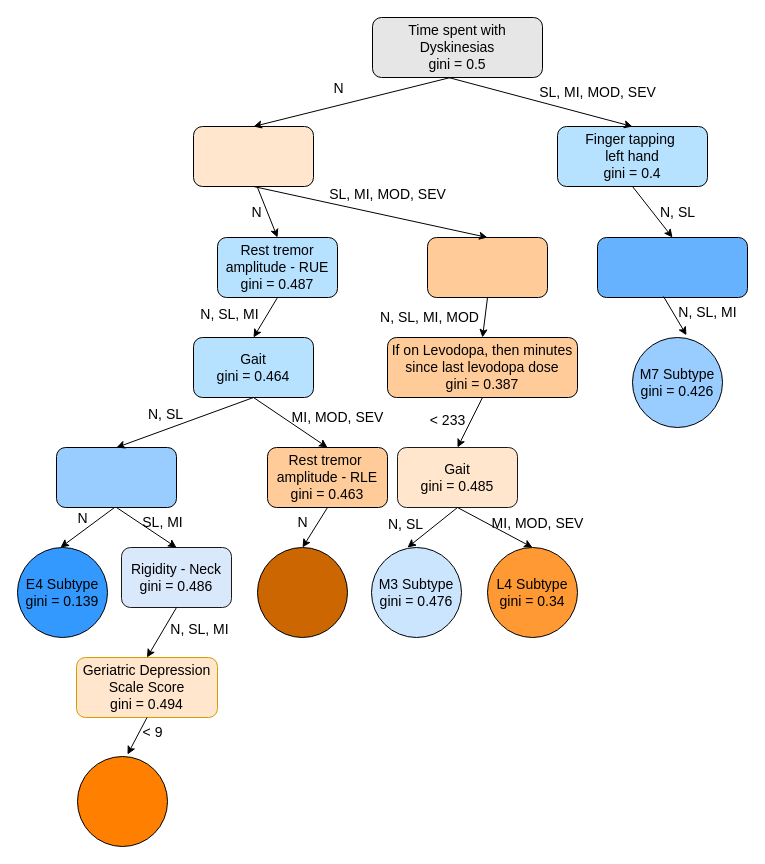
This 765x864 diagram has some shape labels left out. The shapes that lost their labels are listed below. From the top down, each one's centre as x and y in pixels, then its label:
point (253, 156): Constipation problems gini = 0.49
point (487, 267): Toe tapping - right foot gini = 0.422
point (672, 267): Hand movements right hand gini = 0.241
point (116, 477): Rest tremor amplitude - RUE gini = 0.393
point (302, 592): L2 Subtype gini = 0.124
point (122, 801): L1 Subtype gini = 0.198
